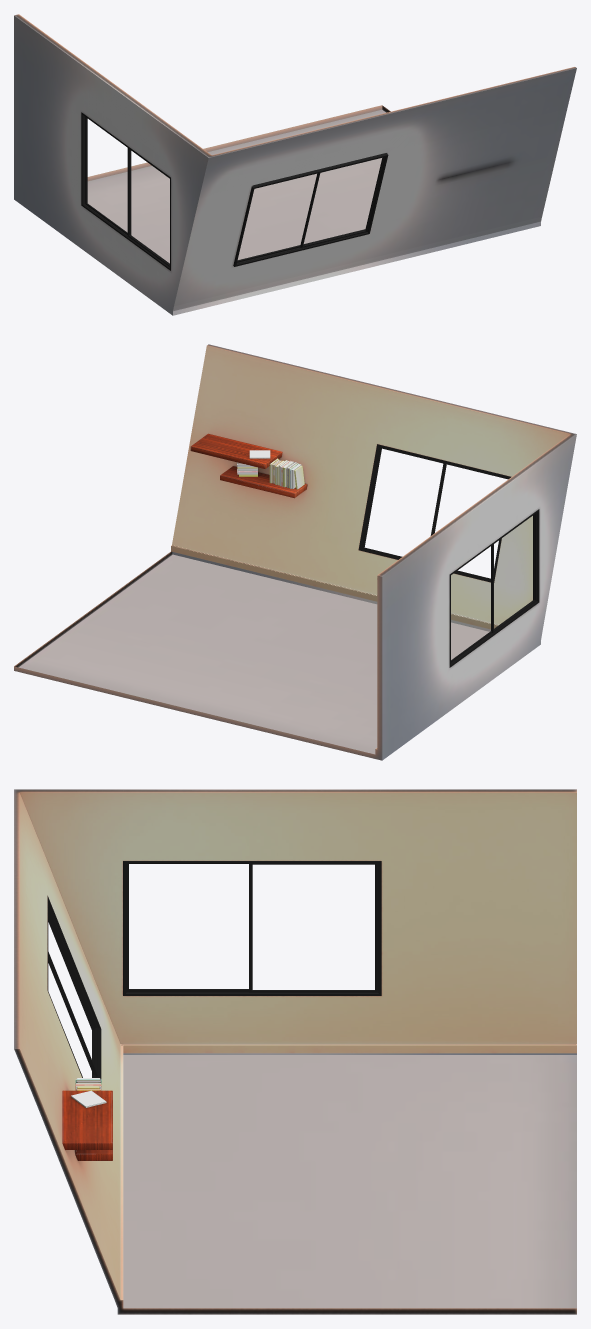
Rendered from OBJ_wall.obj.
3 renders of one model, top to bottom at view 1: azimuth 30°, elevation 25°; view 2: azimuth 150°, elevation 25°; view 3: azimuth 270°, elevation 25°, orthographic. The views are drawn at different scales.
Parts seen in each view (by area): view 1: Wall; view 2: Wall; view 3: Wall.
Part boxes in pixels (x1=…): Wall: x1=14, y1=14, x2=576, y2=315; Wall: x1=14, y1=344, x2=576, y2=760; Wall: x1=14, y1=789, x2=576, y2=1314.
Bounding box in the file's own units: 5.08 × 2.43 × 4.66.
4 materials, 3 textured.
